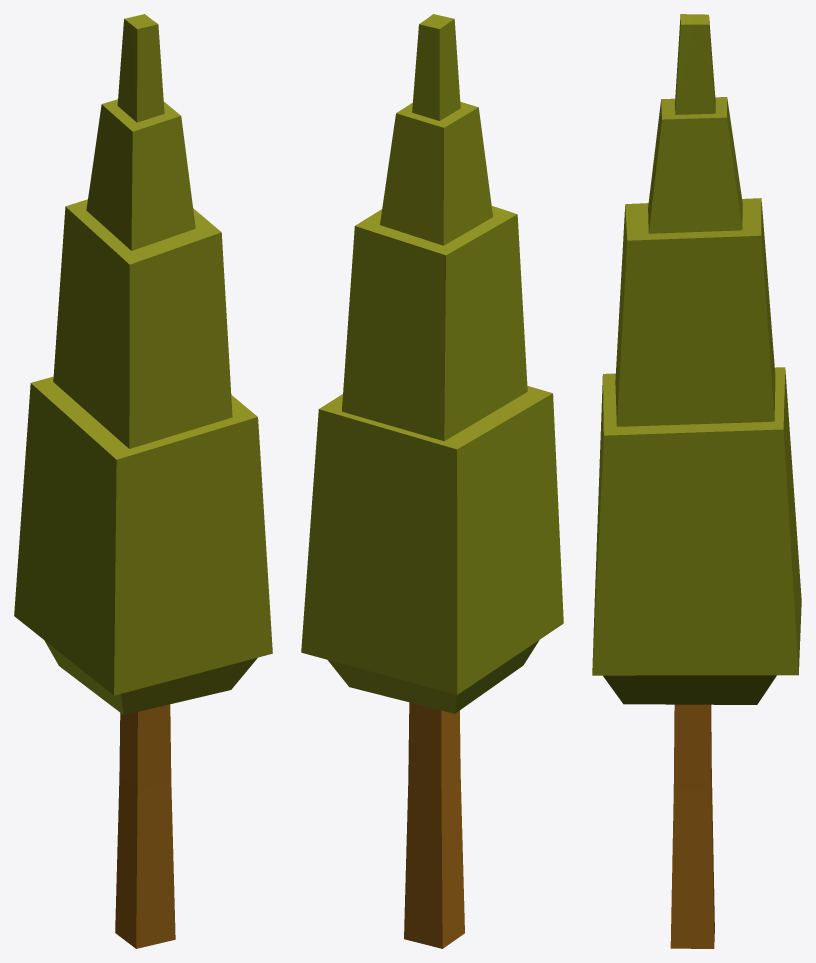
Rendered from SF_Env_Tree_06.fbx.
The picture shows the model from 3 angles, left to right: view 1: azimuth 30°, elevation 25°; view 2: azimuth 150°, elevation 25°; view 3: azimuth 270°, elevation 25°; orthographic projection.
Parts seen in each view (by area): view 1: SF_Prop_Tree_06; view 2: SF_Prop_Tree_06; view 3: SF_Prop_Tree_06.
Boxes of the visible parts, left/top/right/bottom form: SF_Prop_Tree_06: left=14, top=14, right=272, bottom=948; SF_Prop_Tree_06: left=301, top=14, right=563, bottom=948; SF_Prop_Tree_06: left=592, top=14, right=801, bottom=948.
Bounding box in the file's own units: 1.73 × 9.43 × 1.95.
